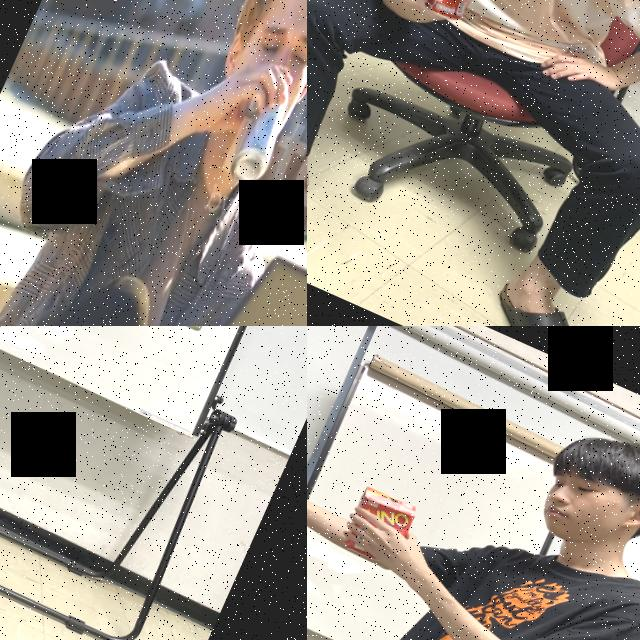can: (218, 72, 304, 192), (415, 0, 492, 24)
